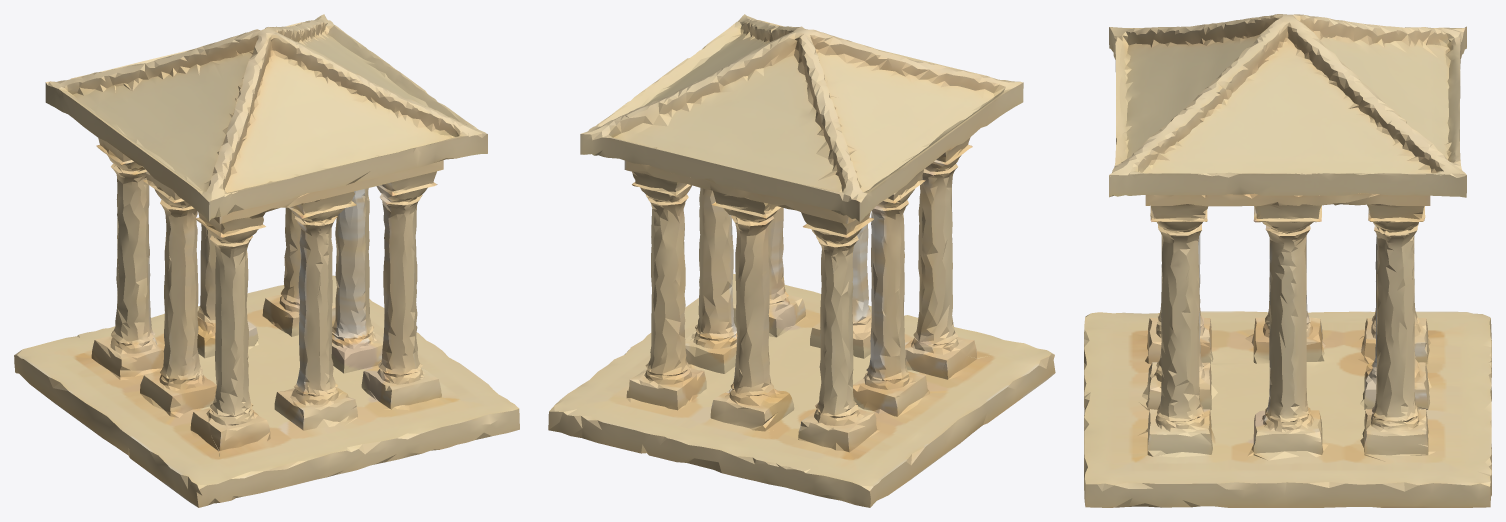
Rendered from temple_intersection.glb.
The picture shows the model from 3 angles, left to right: view 1: azimuth 30°, elevation 25°; view 2: azimuth 150°, elevation 25°; view 3: azimuth 270°, elevation 25°; orthographic projection. The views are drawn at different scales.
Parts seen in each view (by area): view 1: temple_intersection; view 2: temple_intersection; view 3: temple_intersection.
Boxes of the visible parts, left/top/right/bottom form: temple_intersection: left=14, top=14, right=519, bottom=507; temple_intersection: left=548, top=14, right=1055, bottom=507; temple_intersection: left=1084, top=14, right=1491, bottom=507.
Bounding box in the file's own units: 1.66 × 1.82 × 1.66.
1 material, 1 textured.
